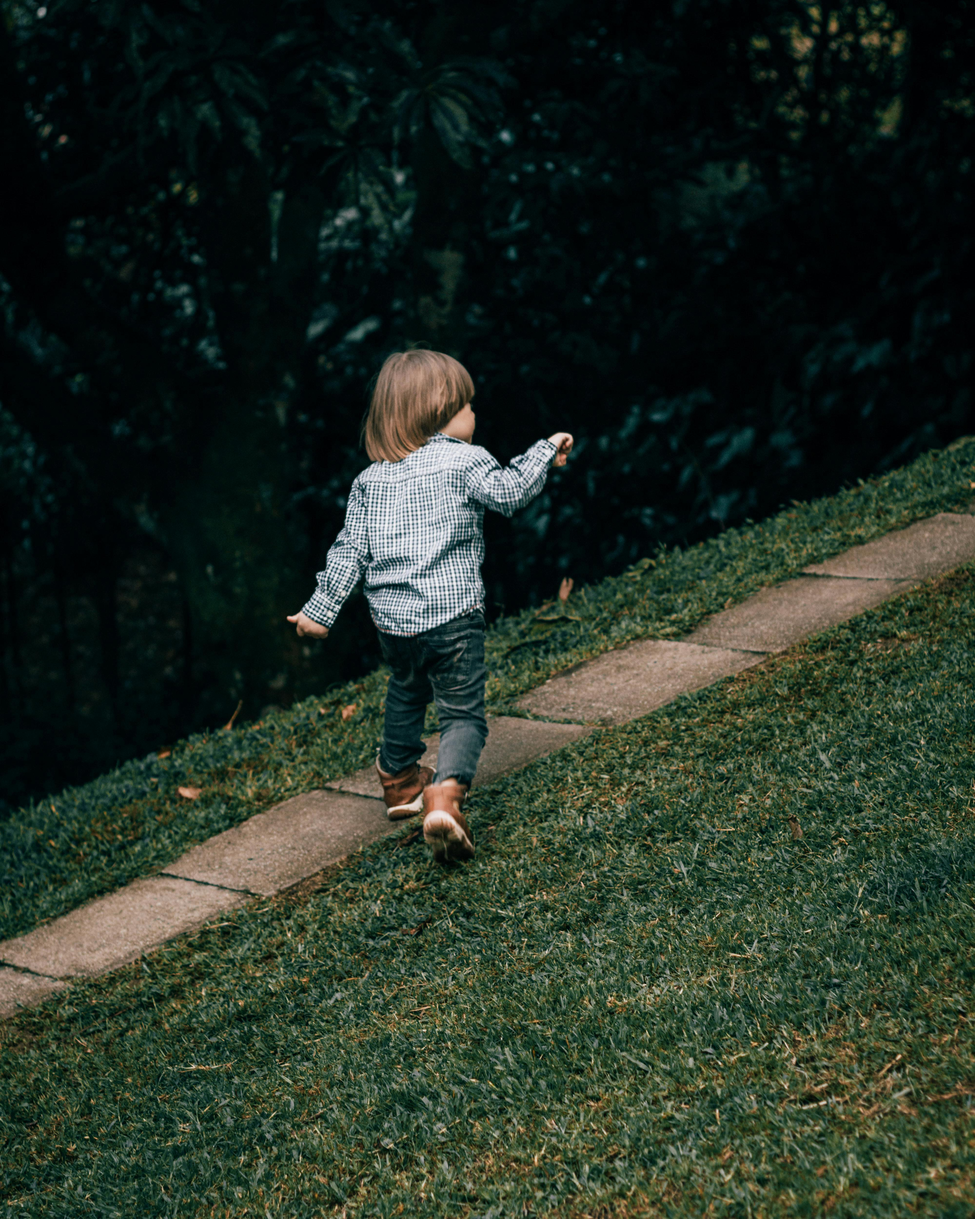Human: (293, 337, 576, 860)
